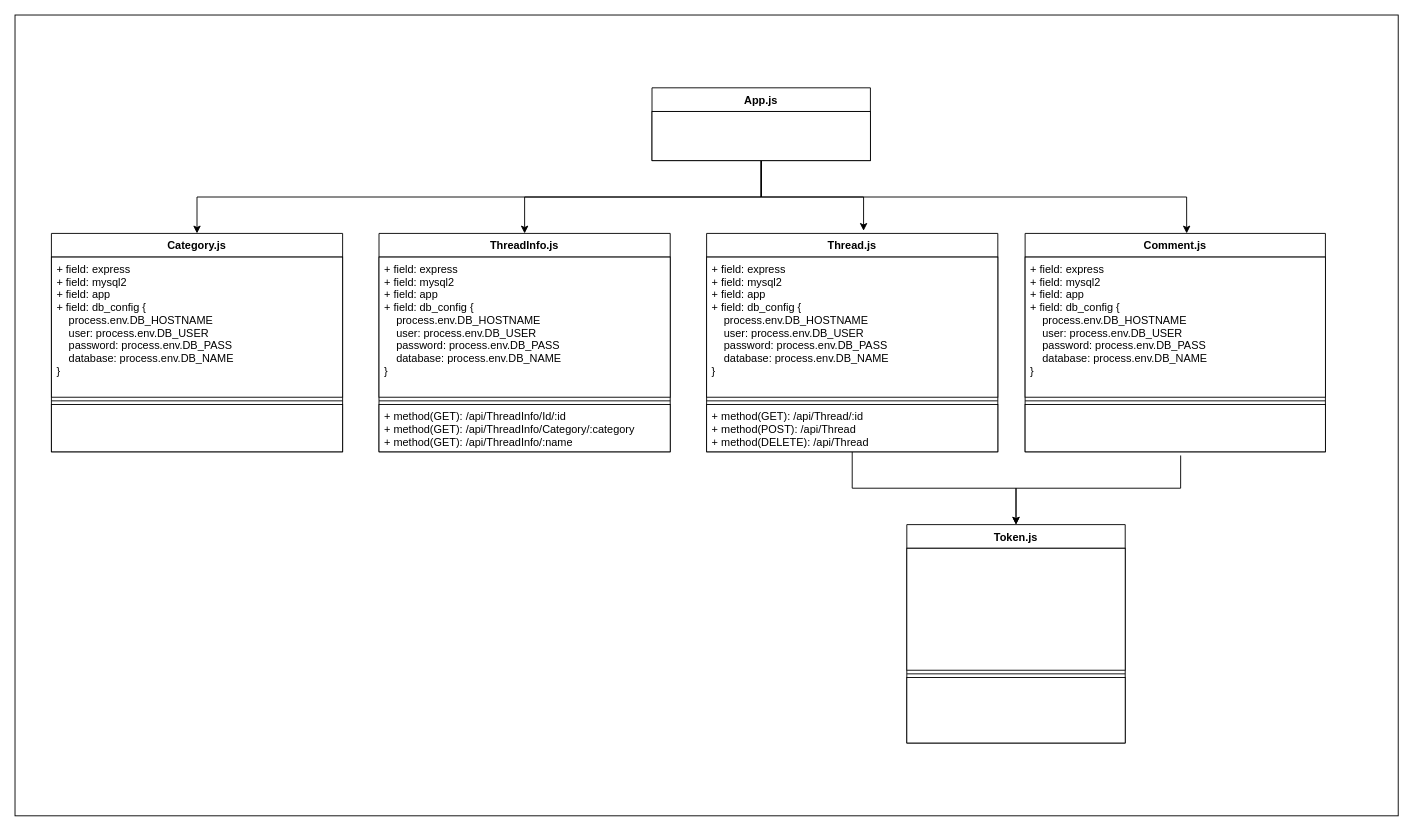
This 1413x831 diagram has some shape labels left out. Here are the shapes that lost their labels. From the top down, the centre of each, then its label:
At (x=760, y=136): "+ field: express + field: app + field: port".
At (x=197, y=428): "+ method(GET): /api/Category".
At (x=1174, y=428): "+ method(POST): /api/Comment + method(DELETE): /api/Comment".
At (x=1015, y=608): "+ field: express + field: mysql2 + field: bcrypt + field: app".
At (x=1015, y=710): "+ method: TokenCheck(Token)".
